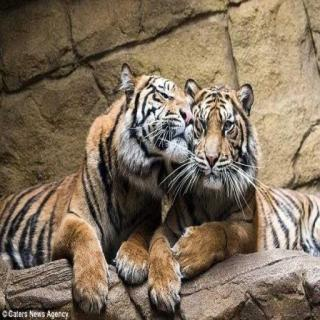Tiger: (10, 48, 198, 311), (163, 71, 320, 254)
